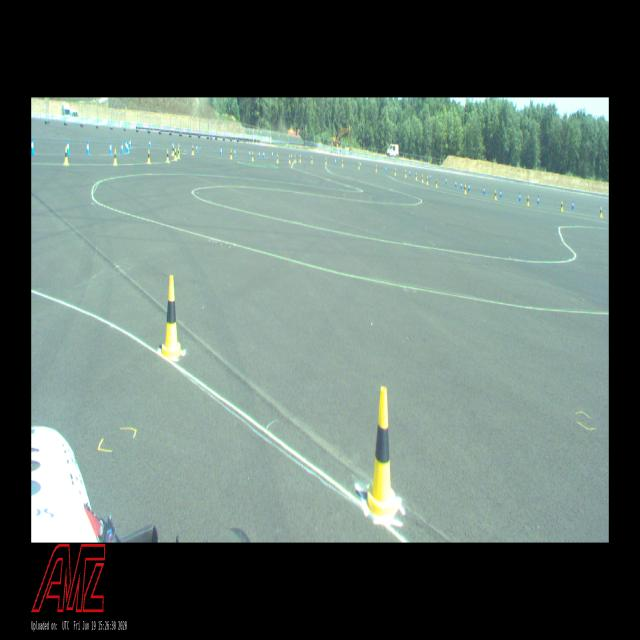blue_cone: (31, 137, 35, 154), (86, 142, 90, 154), (120, 142, 124, 154), (109, 142, 112, 154), (126, 142, 129, 152), (68, 140, 70, 154), (499, 189, 502, 198), (234, 148, 236, 157), (518, 192, 520, 201), (129, 138, 131, 147), (125, 141, 127, 150), (196, 144, 198, 152), (445, 176, 447, 184), (468, 183, 470, 191), (483, 186, 485, 194), (538, 196, 540, 204), (572, 201, 574, 209), (149, 139, 151, 147), (220, 148, 222, 155), (263, 151, 265, 158), (249, 150, 251, 157), (385, 166, 387, 172), (429, 174, 431, 180), (259, 150, 260, 158), (461, 181, 462, 189), (455, 180, 456, 187), (272, 151, 273, 157), (291, 153, 292, 159), (361, 162, 362, 168), (409, 170, 410, 176), (335, 158, 336, 163)
yellow_cone: (363, 386, 402, 525), (160, 275, 183, 361), (64, 146, 69, 165), (147, 149, 151, 163), (114, 149, 117, 165), (166, 150, 169, 162), (560, 202, 564, 211), (174, 148, 177, 160), (172, 147, 175, 155), (600, 207, 602, 217), (178, 148, 180, 158), (464, 184, 466, 194), (494, 190, 496, 200), (527, 195, 529, 205), (230, 149, 232, 158), (276, 154, 278, 163), (192, 146, 194, 154), (252, 152, 254, 160), (436, 179, 438, 187), (426, 176, 428, 184), (325, 157, 327, 165), (294, 155, 296, 162), (422, 175, 424, 182), (416, 173, 418, 180), (394, 168, 396, 175), (358, 162, 360, 169), (311, 156, 313, 163), (289, 155, 290, 163), (300, 155, 301, 162), (405, 170, 406, 177), (376, 165, 377, 172), (342, 160, 343, 166)
